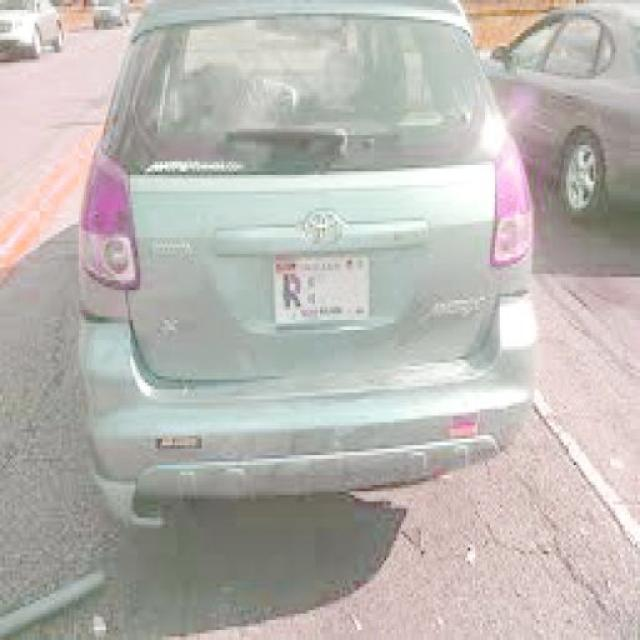car damage: (79, 301, 262, 410)
